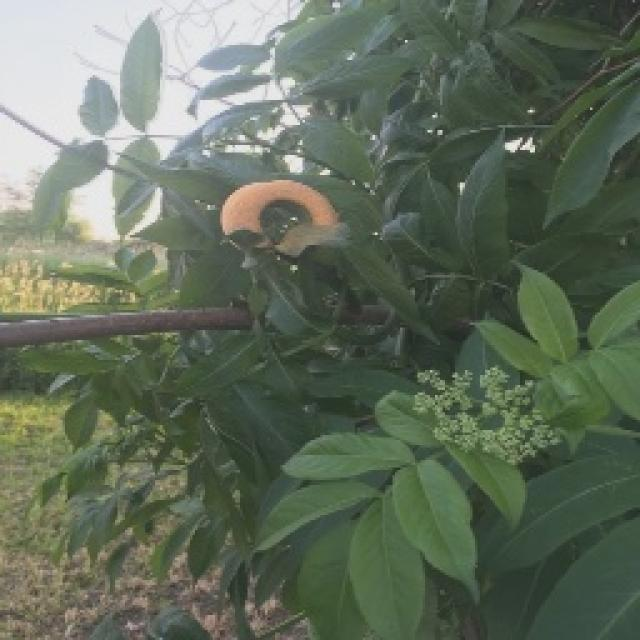Elderberry_rust: (211, 176, 351, 274)
